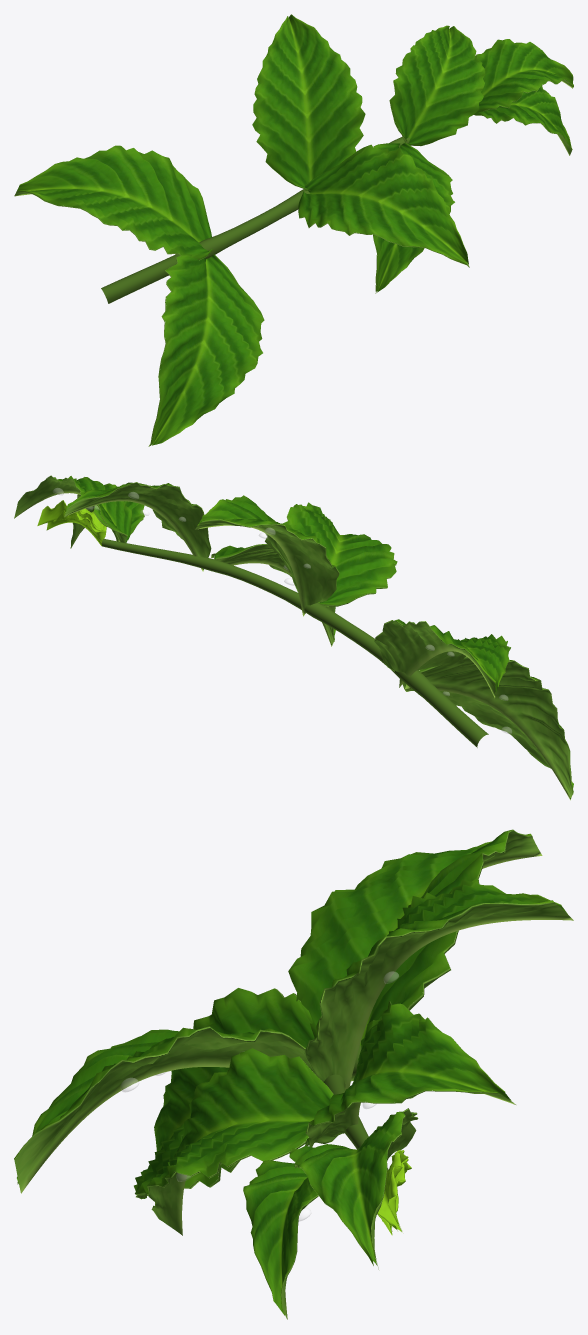
Rendered from mint-sprig.glb.
The picture shows the model from 3 angles, top to bottom: view 1: azimuth 30°, elevation 25°; view 2: azimuth 150°, elevation 25°; view 3: azimuth 270°, elevation 25°; orthographic projection. The views are drawn at different scales.
Parts seen in each view (by area): view 1: mint-sprig-top, mint-sprig-stem, mint-sprig-underside; view 2: mint-sprig-underside, mint-sprig-top, mint-sprig-stem, mint-apical-bud, object 5; view 3: mint-sprig-top, mint-sprig-underside, mint-apical-bud, mint-sprig-stem, object 5.
Part boxes in pixels (left/top/right/bottom): mint-sprig-top: left=16, top=14, right=573, bottom=445; mint-sprig-stem: left=101, top=137, right=409, bottom=303; mint-sprig-underside: left=14, top=34, right=573, bottom=446; mint-sprig-underside: left=14, top=475, right=572, bottom=800; mint-sprig-top: left=46, top=476, right=573, bottom=793; mint-sprig-stem: left=101, top=539, right=488, bottom=747; mint-apical-bud: left=37, top=500, right=106, bottom=545; object 5: left=53, top=488, right=511, bottom=733; mint-sprig-top: left=14, top=830, right=567, bottom=1315; mint-sprig-underside: left=14, top=829, right=573, bottom=1319; mint-apical-bud: left=377, top=1149, right=411, bottom=1235; mint-sprig-stem: left=323, top=1045, right=388, bottom=1170; object 5: left=121, top=971, right=398, bottom=1221.
Bounding box in the file's own units: 0.1615 × 0.0884 × 0.086.
5 materials, 2 textured.
